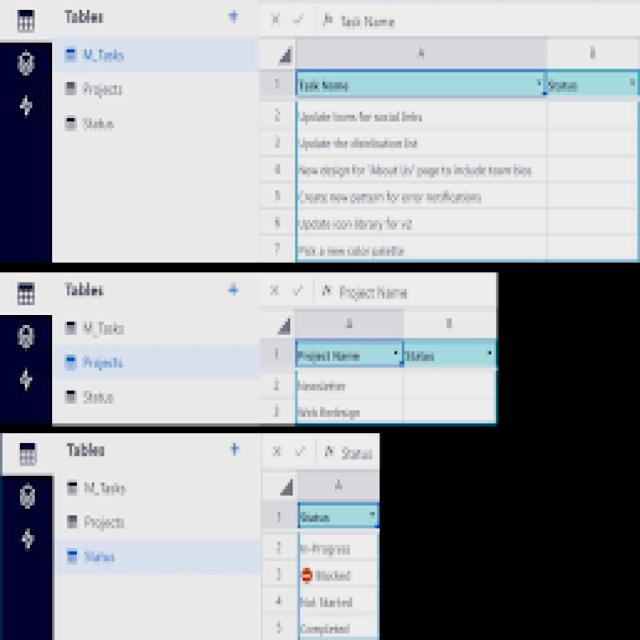button: (260, 38, 294, 66), (262, 474, 298, 500), (261, 311, 294, 339), (13, 321, 39, 355), (13, 47, 38, 81), (13, 363, 41, 391), (16, 482, 40, 514), (16, 524, 38, 556), (13, 95, 38, 120), (64, 477, 84, 502), (60, 46, 81, 66), (61, 112, 77, 138), (65, 546, 82, 570), (225, 280, 243, 302), (62, 356, 81, 376), (268, 441, 286, 460), (62, 387, 79, 407), (64, 513, 82, 531), (294, 444, 312, 462), (62, 78, 78, 98), (62, 319, 78, 339), (268, 9, 284, 29), (290, 12, 308, 29), (227, 8, 243, 27), (266, 282, 284, 297), (228, 442, 242, 460), (290, 281, 304, 299)
icon: (8, 272, 43, 312), (12, 437, 49, 473), (9, 4, 42, 34)
input: (293, 96, 640, 262), (297, 367, 497, 422), (321, 5, 636, 32), (300, 534, 378, 640), (317, 278, 494, 300), (319, 440, 380, 466)
label: (298, 160, 539, 178), (298, 186, 482, 204), (297, 128, 423, 152), (298, 103, 425, 125), (299, 211, 416, 232), (299, 237, 408, 259), (59, 2, 118, 32), (60, 277, 113, 303), (63, 434, 114, 461), (82, 41, 127, 69), (299, 403, 368, 421), (83, 476, 132, 500), (78, 77, 126, 99), (78, 318, 128, 339), (299, 374, 349, 395), (81, 352, 130, 373), (83, 511, 128, 533), (80, 114, 120, 138), (301, 594, 362, 608), (304, 619, 354, 635), (303, 566, 356, 581), (82, 548, 121, 567), (82, 387, 118, 407), (302, 543, 353, 555)
